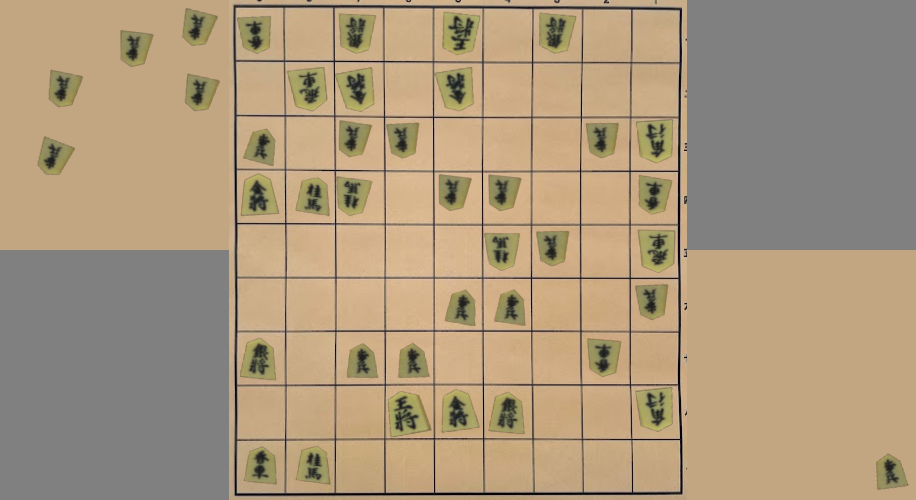A: (389, 392, 429, 436), (242, 175, 278, 215), (443, 391, 478, 432), (241, 340, 275, 380), (490, 394, 524, 434), (297, 447, 330, 484), (244, 448, 276, 484), (297, 179, 328, 215), (244, 130, 275, 165), (398, 344, 429, 377), (495, 291, 525, 325), (447, 291, 475, 326), (348, 345, 377, 378)
B: (288, 68, 325, 110), (636, 389, 672, 431), (338, 69, 373, 111), (637, 120, 672, 162), (437, 69, 472, 110), (444, 13, 479, 54), (639, 231, 674, 272), (339, 14, 375, 53), (541, 14, 575, 53), (338, 178, 371, 215), (238, 16, 271, 53), (639, 176, 671, 214), (588, 340, 620, 376), (339, 121, 371, 156), (489, 175, 520, 211), (537, 232, 569, 266), (487, 235, 518, 270), (439, 176, 470, 210), (588, 123, 618, 157), (637, 285, 667, 319), (388, 124, 418, 157)
C: (877, 455, 908, 489)
D: (38, 138, 73, 175), (50, 71, 82, 107), (186, 75, 218, 110), (184, 10, 216, 45), (122, 31, 153, 66)
